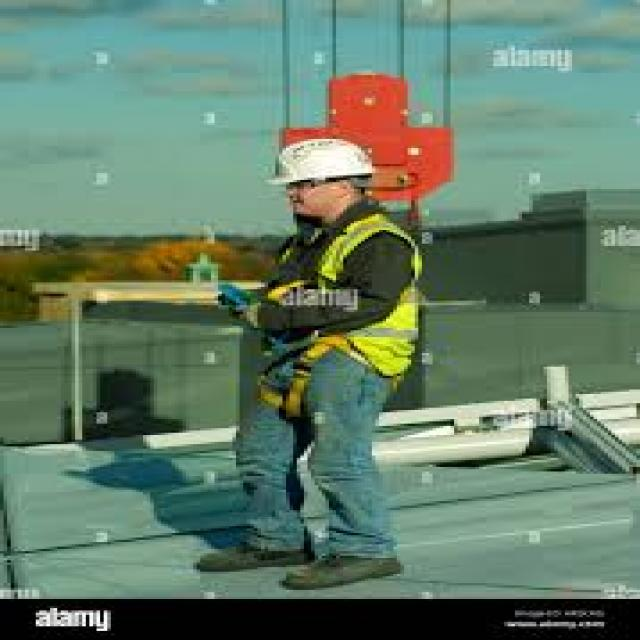Reflective-Jacket: (236, 214, 454, 387)
Safety-Helmet: (254, 132, 393, 194)
